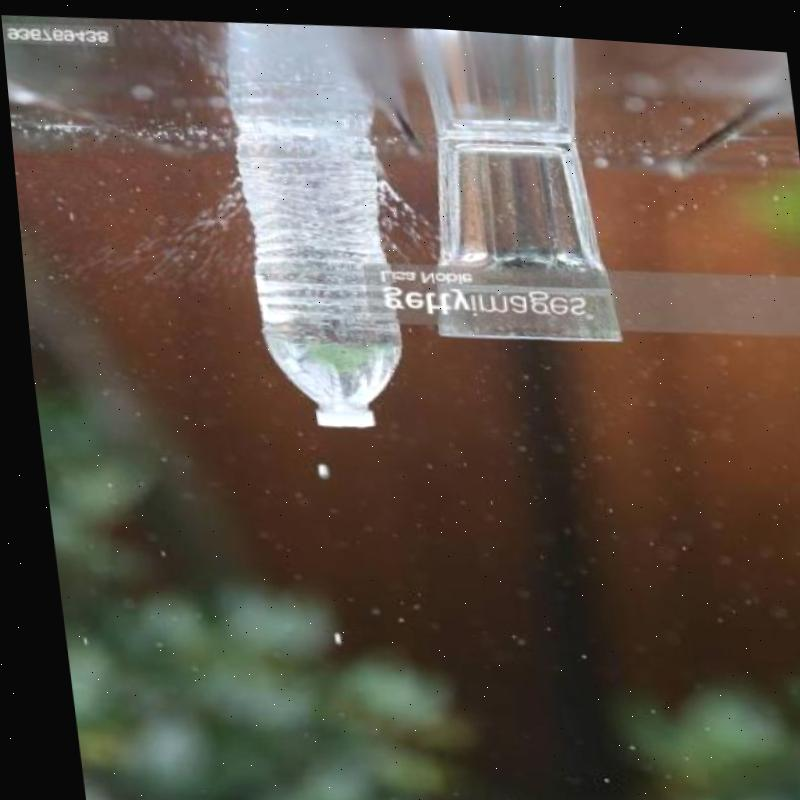botella: (224, 107, 410, 432)
